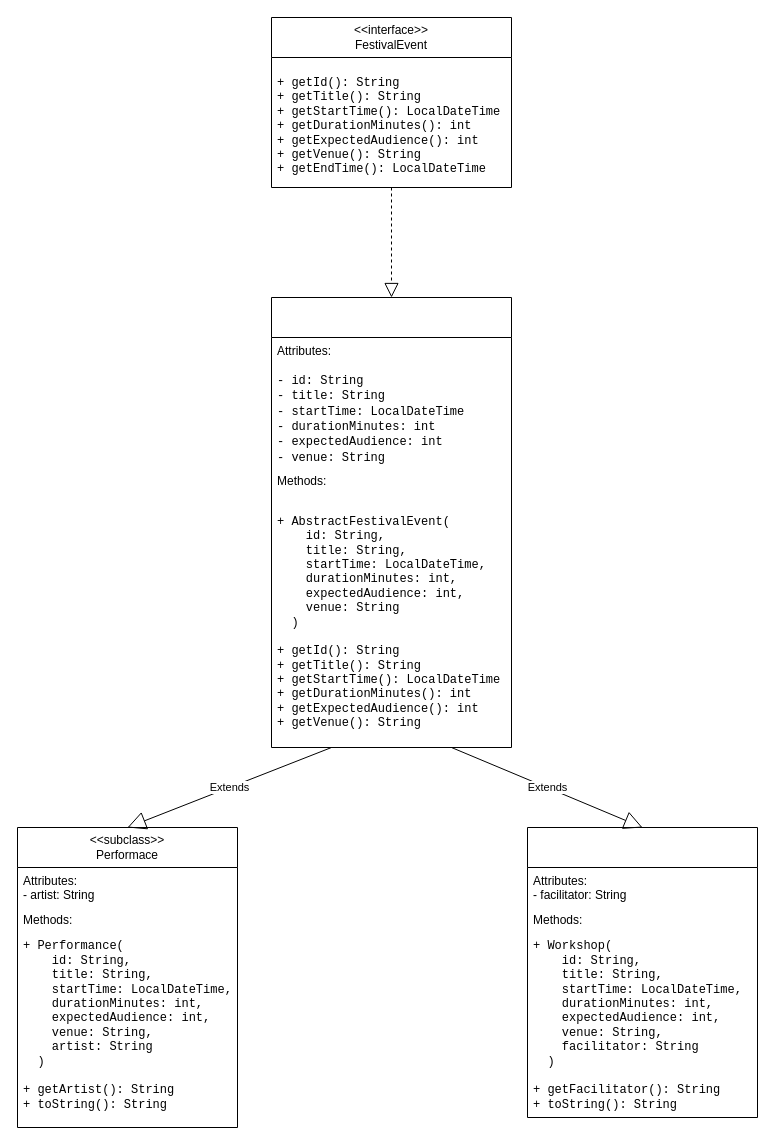
This 775x1148 diagram has some shape labels left out. The shapes that lost their labels are listed below. From the top down, each one's box as (x1, y1, x2, y2) in pixels, then its label:
(270, 296, 512, 748): <<abstract>> AbstractFestivalEvent
(526, 826, 758, 1118): <<subclass>> Workshop
